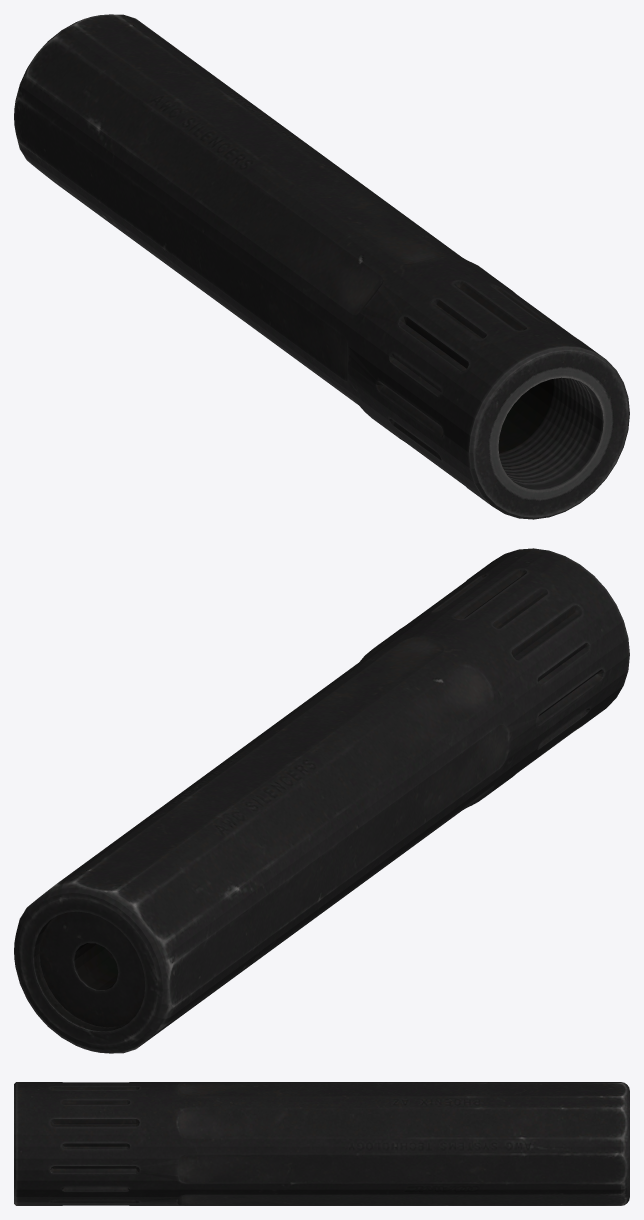
3 views of the same model, one above another, from view 1: azimuth 30°, elevation 25°; view 2: azimuth 150°, elevation 25°; view 3: azimuth 270°, elevation 25° (orthographic). The views are drawn at different scales.
Parts seen in each view (by area): view 1: TW_63877c99e785640d436458ea_PZ_Import; view 2: TW_63877c99e785640d436458ea_PZ_Import; view 3: TW_63877c99e785640d436458ea_PZ_Import.
Boxes of the visible parts, x1,y1,x2,y2 form: TW_63877c99e785640d436458ea_PZ_Import: (14,14,629,519); TW_63877c99e785640d436458ea_PZ_Import: (14,548,629,1053); TW_63877c99e785640d436458ea_PZ_Import: (14,1082,629,1205).
Bounding box in the file's own units: 0.0239 × 0.1186 × 0.0239.
Materials: 1 (1 with a texture image).
